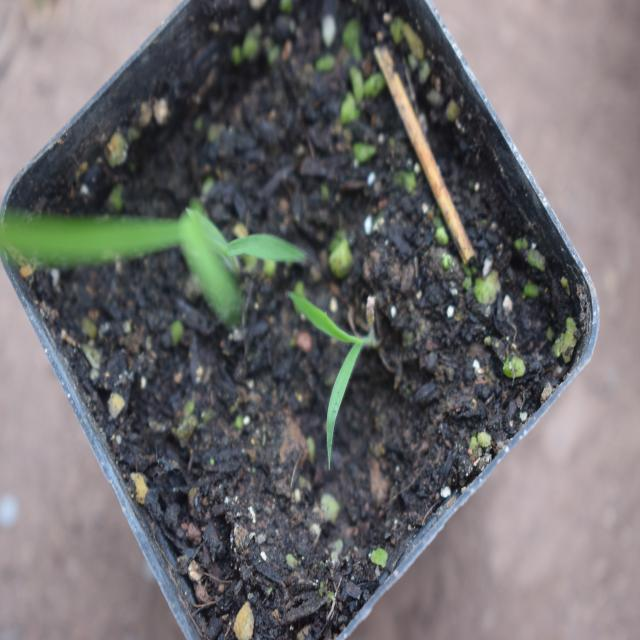crabgrass: (264, 233, 388, 459)
